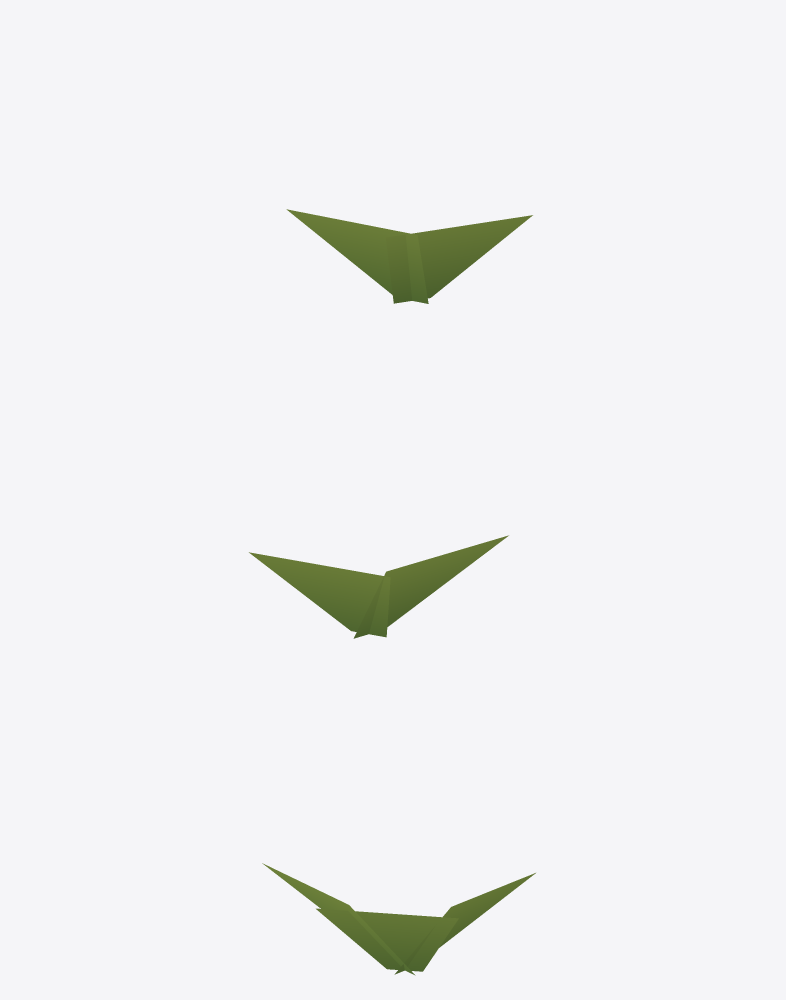
File: fern_1.glb
3 views of the same model, one above another, from view 1: azimuth 30°, elevation 25°; view 2: azimuth 150°, elevation 25°; view 3: azimuth 270°, elevation 25° (orthographic).
Parts seen in each view (by area): view 1: fern_1; view 2: fern_1; view 3: fern_1.
Boxes of the visible parts, box(x1,y1,x2,y2) form: fern_1: box(286, 209, 532, 303); fern_1: box(249, 535, 508, 638); fern_1: box(262, 863, 535, 975).
Bounding box in the file's own units: 1.22 × 0.374 × 1.38.
